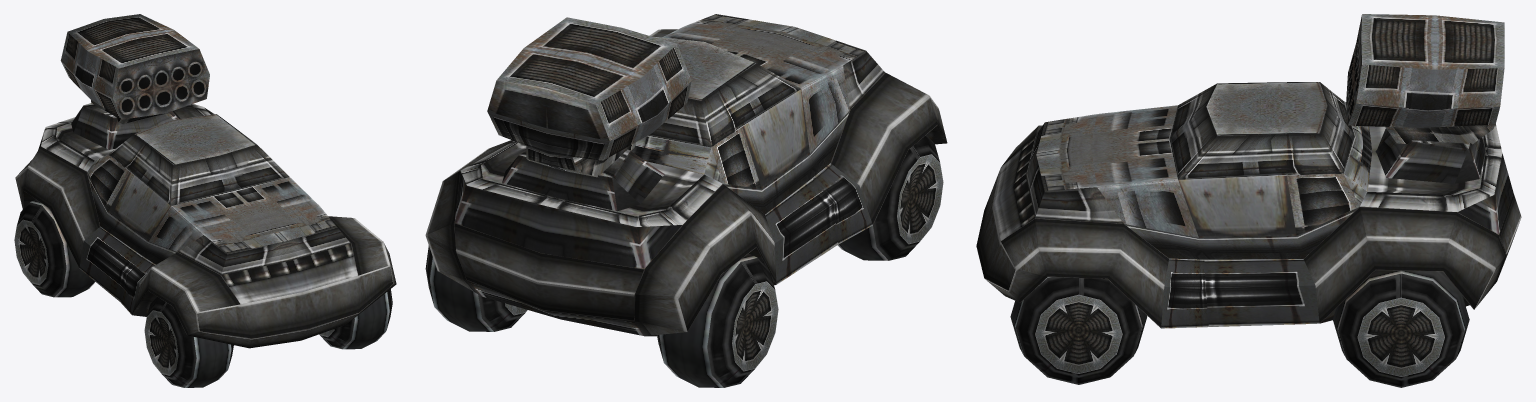
The model's file is VEH_WHEEL_003.max.fbx.
3 renders of one model, left to right at view 1: azimuth 30°, elevation 25°; view 2: azimuth 150°, elevation 25°; view 3: azimuth 270°, elevation 25°, orthographic. The views are drawn at different scales.
Parts seen in each view (by area): view 1: jeepbody, r-launcher, wheel-02, wheel-04, rl-base, wheel-01; view 2: jeepbody, r-launcher, wheel-04, wheel-02, rl-base, wheel-03; view 3: jeepbody, r-launcher, wheel-03, wheel-01, rl-base.
Boxes of the visible parts, bbox=[...] form: jeepbody: bbox=[15, 104, 396, 348]; r-launcher: bbox=[60, 14, 209, 124]; wheel-02: bbox=[144, 297, 233, 387]; wheel-04: bbox=[14, 199, 94, 297]; rl-base: bbox=[71, 103, 180, 149]; wheel-01: bbox=[319, 289, 392, 349]; jeepbody: bbox=[425, 14, 947, 336]; r-launcher: bbox=[487, 17, 691, 177]; wheel-04: bbox=[657, 254, 778, 387]; wheel-02: bbox=[837, 135, 943, 260]; rl-base: bbox=[502, 149, 664, 211]; wheel-03: bbox=[425, 245, 527, 331]; jeepbody: bbox=[976, 82, 1521, 328]; r-launcher: bbox=[1346, 14, 1504, 145]; wheel-03: bbox=[1333, 270, 1469, 387]; wheel-01: bbox=[1010, 277, 1147, 384]; rl-base: bbox=[1375, 128, 1485, 183].
Bounding box in the file's own units: 7.27 × 7.06 × 11.92.
